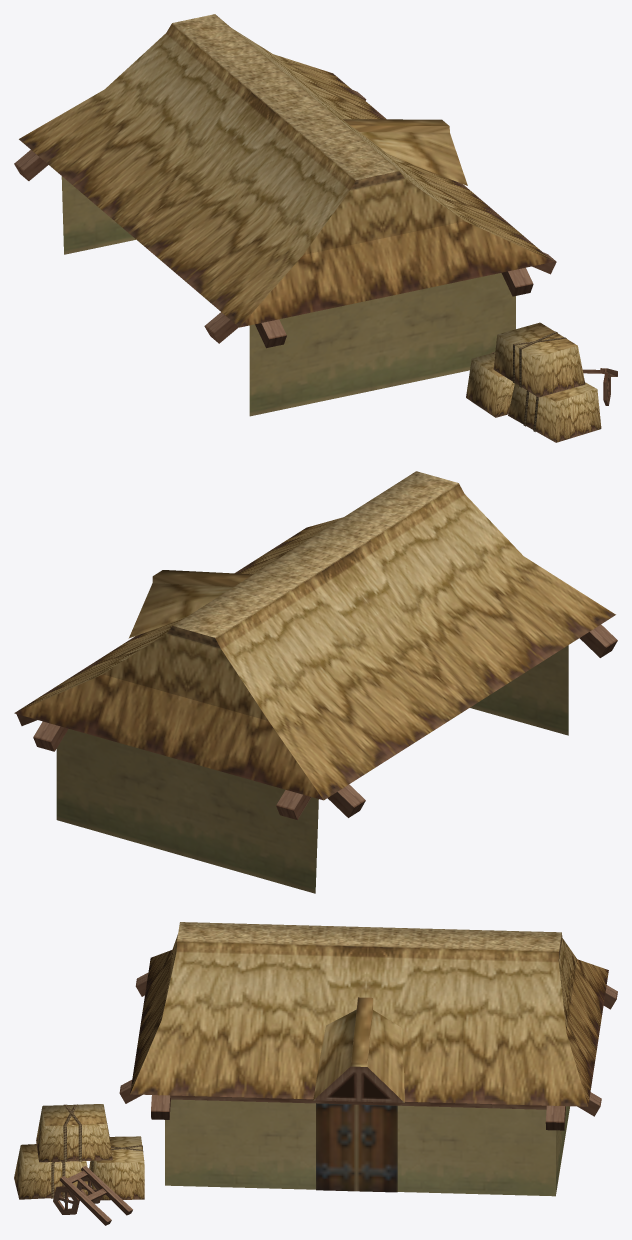
Rendered from Area_11_28.fbx.
3 renders of one model, top to bottom at view 1: azimuth 30°, elevation 25°; view 2: azimuth 150°, elevation 25°; view 3: azimuth 270°, elevation 25°, orthographic. The views are drawn at different scales.
Visible parts, largest first — view 1: Area_11_28; view 2: Area_11_28; view 3: Area_11_28.
Part boxes in pixels (box(x1,y1,x2,y2)): Area_11_28: box(14, 14, 617, 442); Area_11_28: box(14, 471, 617, 893); Area_11_28: box(14, 922, 617, 1225).
Bounding box in the file's own units: 1323 × 777 × 2031.
